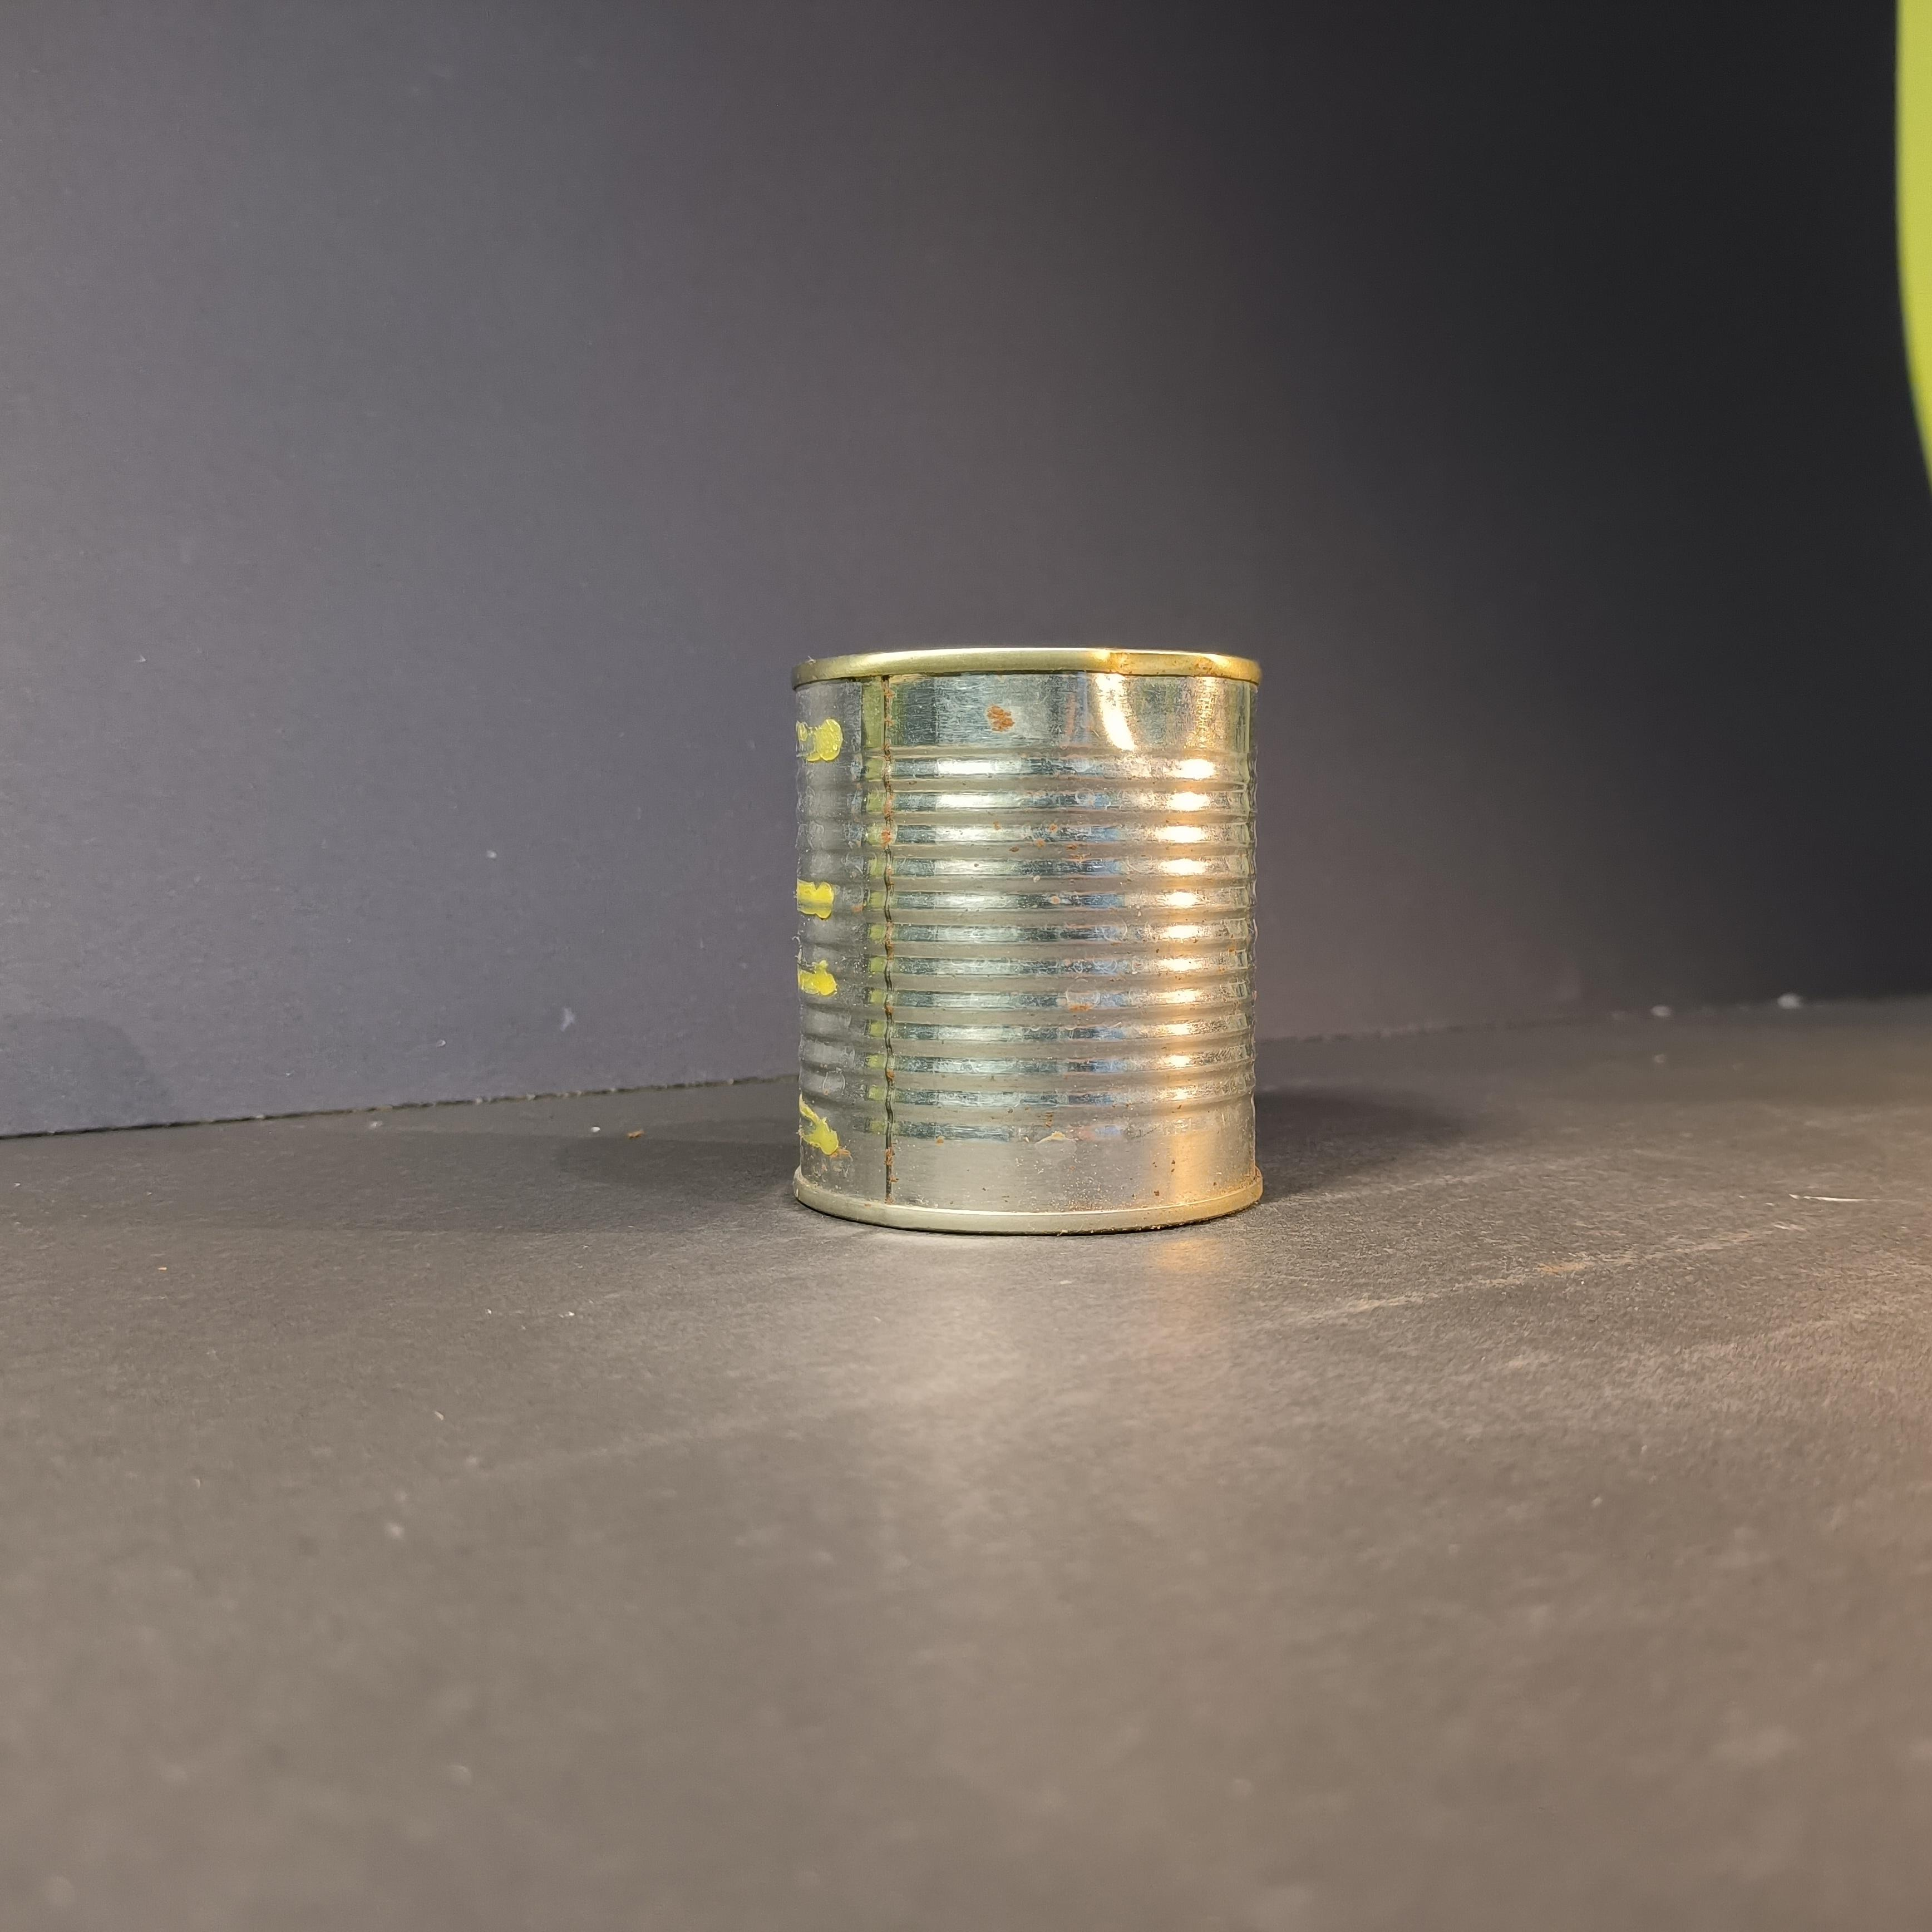Dented: (778, 621, 1293, 1240)
